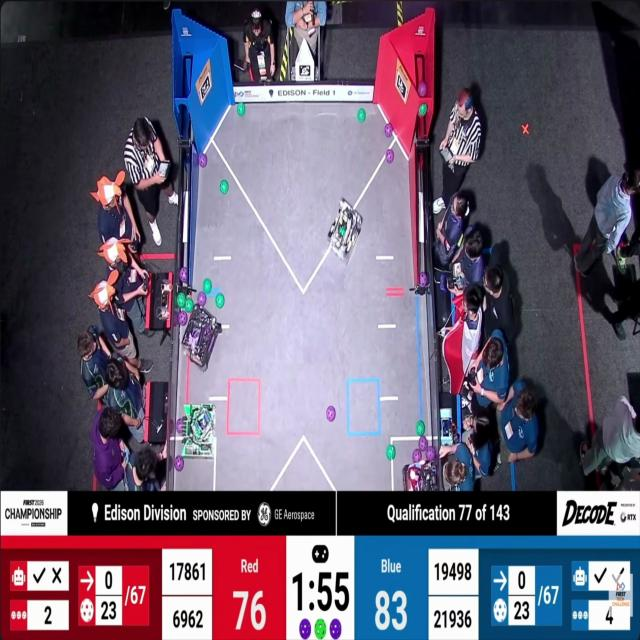artifact_green: (315, 619, 326, 639), (176, 292, 186, 309), (215, 292, 225, 308), (416, 420, 425, 436), (203, 279, 212, 294), (185, 298, 194, 313), (386, 445, 395, 460), (220, 180, 228, 194), (358, 108, 366, 122), (237, 103, 245, 116), (419, 104, 427, 116), (339, 227, 346, 237)
artifact_purple: (299, 619, 311, 640), (330, 619, 341, 639), (440, 274, 448, 293), (198, 153, 208, 168), (174, 456, 184, 471), (178, 310, 188, 325), (327, 406, 336, 422), (418, 81, 427, 97), (419, 436, 428, 452), (426, 447, 435, 462), (176, 418, 184, 434), (180, 267, 188, 282), (198, 292, 206, 306), (385, 123, 393, 137), (419, 273, 427, 286), (413, 449, 421, 462), (386, 150, 394, 163), (419, 104, 427, 116)
